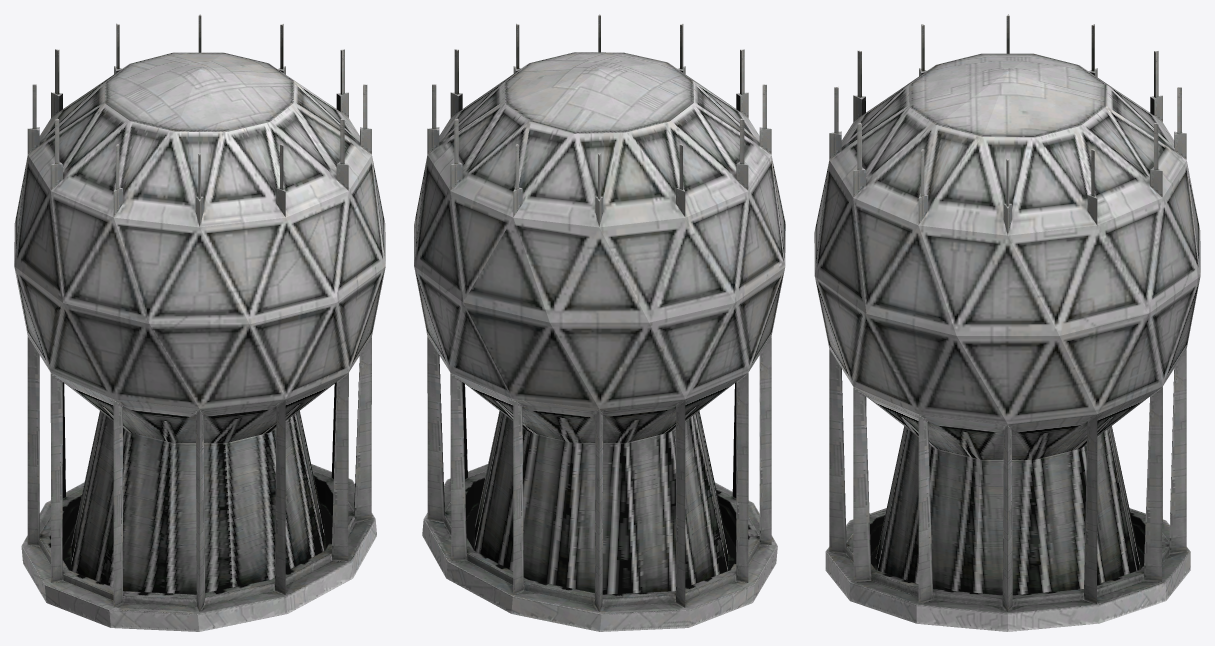
The model's file is star_destroyer_shieldtower_1_l1.fbx.
3 renders of one model, left to right at view 1: azimuth 30°, elevation 25°; view 2: azimuth 150°, elevation 25°; view 3: azimuth 270°, elevation 25°, orthographic. The views are drawn at different scales.
Visible parts, largest first — view 1: mesh_node; view 2: mesh_node; view 3: mesh_node.
Part boxes in pixels (x1=…): mesh_node: x1=14, y1=14, x2=385, y2=631; mesh_node: x1=414, y1=14, x2=785, y2=631; mesh_node: x1=814, y1=14, x2=1200, y2=631.
Size of the model in its own units: 68.03 by 100 by 68.01.
1 material, 1 textured.
